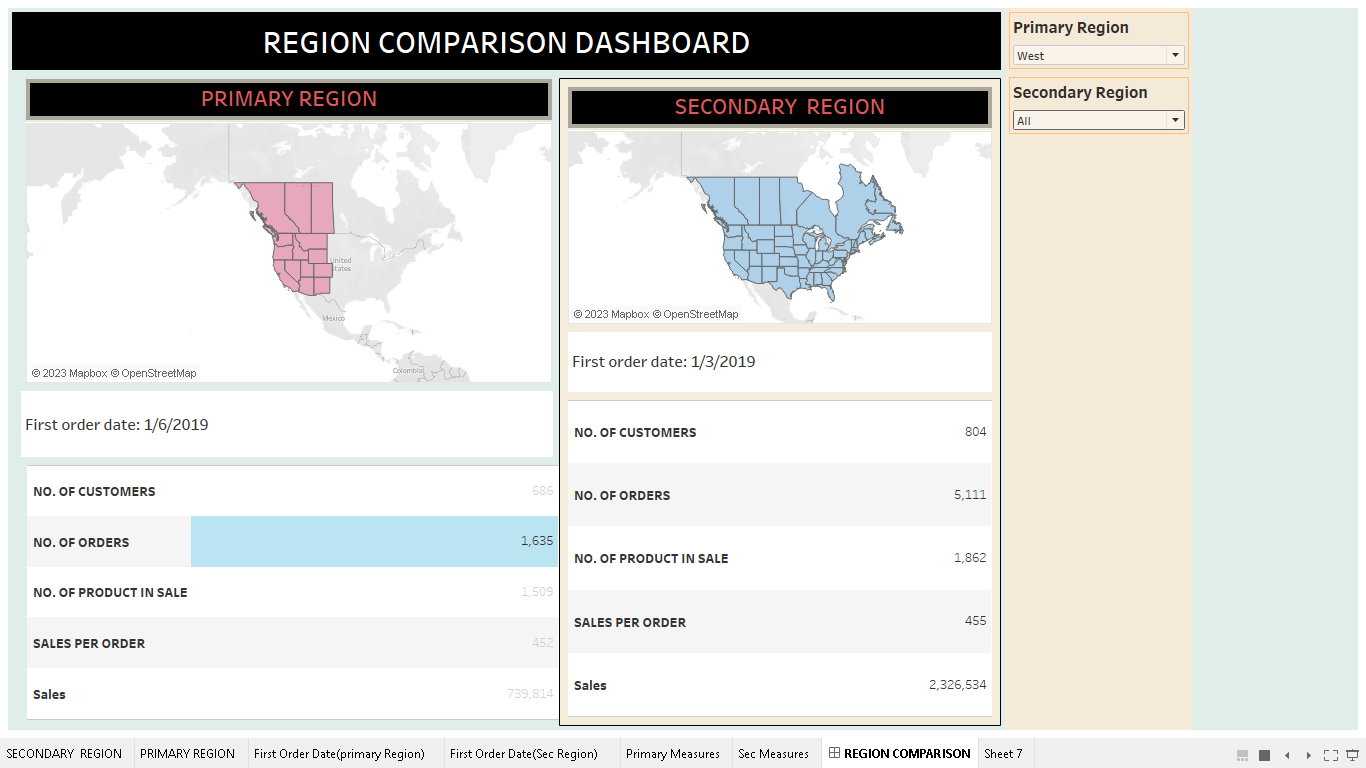

The dashboard page shown, as its layout file describes it:
{"tool":"tableau","page":{"name":"REGION COMPARISON","canvas":[1000,1000],"units":"permille","ordinal":0},"visuals":[{"type":"text","box":[7.5,13.7,808.5,88.8]},{"type":"parameter","param":"[Parameters].[Parameter 1]","box":[816,13.7,176.5,89]},{"type":"worksheet","title":"PRIMARY REGION","mark":"Multipolygon","box":[16.4,101,391,422.9]},{"type":"blank","box":[7.5,102.5,443.7,883.8]},{"type":"parameter","param":"[Parameters].[Parameter 2]","box":[816,102.7,176.5,89]},{"type":"worksheet","title":"SECONDARY  REGION","mark":"Multipolygon","box":[459.6,117.9,347.9,419.5]},{"type":"worksheet","title":"First Order Date(primary Region)","mark":"Automatic","box":[12.7,524,395.5,101]},{"type":"worksheet","title":"First Order Date(Sec Region) ","mark":"Automatic","box":[459.6,537.5,347.9,116.4]},{"type":"worksheet","title":"Primary Measures","mark":"Automatic","box":[17.2,625,395.5,356.2]},{"type":"worksheet","title":"Sec Measures","mark":"Automatic","box":[459.6,653.9,347.9,317]}]}

Visuals, with their boxes on the dashboard's canvas, which has no fixed pixel size, in thousandths of its width and height (x1, y1, x2, y2). These are canvas units, not pixel positions in the 1366x768 screenshot, which may show the page scaled, cropped or inside an application window:
text: crop(8, 14, 816, 102)
parameter: crop(816, 14, 992, 103)
"PRIMARY REGION" worksheet (Multipolygon marks): crop(16, 101, 407, 524)
blank: crop(8, 102, 451, 986)
parameter: crop(816, 103, 992, 192)
"SECONDARY  REGION" worksheet (Multipolygon marks): crop(460, 118, 808, 537)
"First Order Date(primary Region)" worksheet: crop(13, 524, 408, 625)
"First Order Date(Sec Region) " worksheet: crop(460, 538, 808, 654)
"Primary Measures" worksheet: crop(17, 625, 413, 981)
"Sec Measures" worksheet: crop(460, 654, 808, 971)
